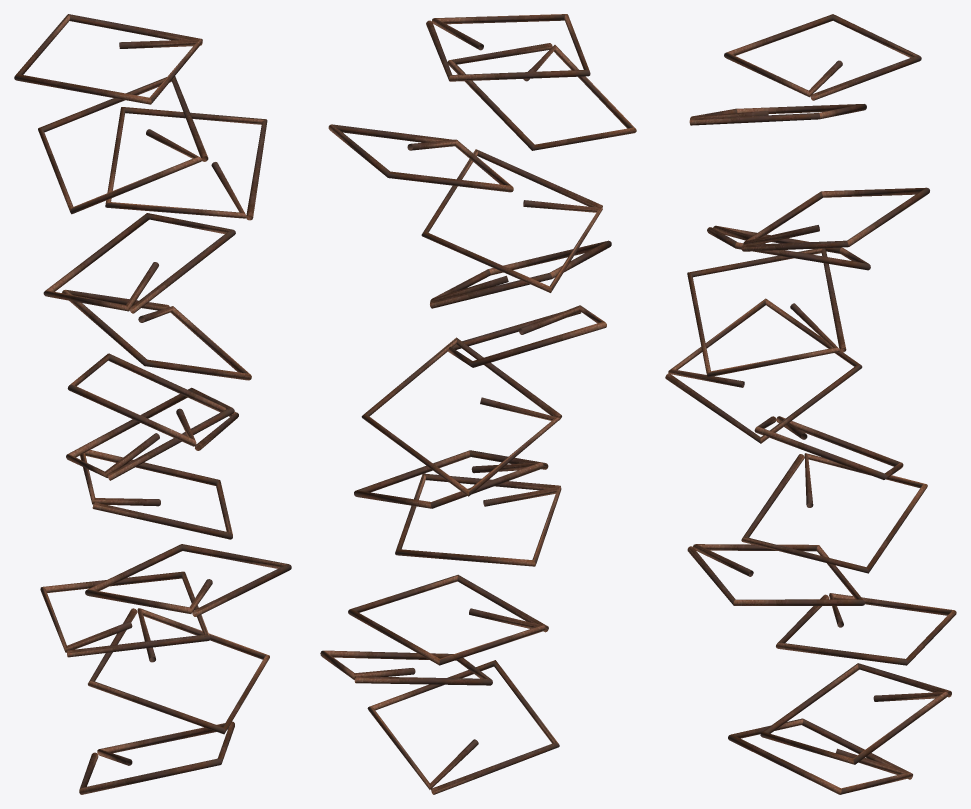
The model's file is EST-ARM-001_anim.glb.
3 views of the same model, side by side, from view 1: azimuth 30°, elevation 25°; view 2: azimuth 150°, elevation 25°; view 3: azimuth 270°, elevation 25° (orthographic). The views are drawn at different scales.
Parts seen in each view (by area): view 1: EST-ARM-001_anim11, EST-ARM-001_anim9, EST-ARM-001_anim8, EST-ARM-001_anim3, EST-ARM-001_anim10, EST-ARM-001_anim2, EST-ARM-001_anim1, EST-ARM-001_anim4, EST-ARM-001_anim7, EST-ARM-001_anim6, EST-ARM-001_anim5, EST-ARM-001_anim0; view 2: EST-ARM-001_anim5, EST-ARM-001_anim2, EST-ARM-001_anim8, EST-ARM-001_anim0, EST-ARM-001_anim11, EST-ARM-001_anim9, EST-ARM-001_anim3, EST-ARM-001_anim10, EST-ARM-001_anim4, EST-ARM-001_anim7, EST-ARM-001_anim1, EST-ARM-001_anim6; view 3: EST-ARM-001_anim9, EST-ARM-001_anim1, EST-ARM-001_anim6, EST-ARM-001_anim11, EST-ARM-001_anim7, EST-ARM-001_anim4, EST-ARM-001_anim3, EST-ARM-001_anim0, EST-ARM-001_anim2, EST-ARM-001_anim10, EST-ARM-001_anim5, EST-ARM-001_anim8.
Part boxes in pixels (bbox=[...]): EST-ARM-001_anim11: bbox=[14, 14, 202, 104]; EST-ARM-001_anim9: bbox=[105, 107, 267, 220]; EST-ARM-001_anim8: bbox=[43, 213, 235, 313]; EST-ARM-001_anim3: bbox=[85, 544, 291, 616]; EST-ARM-001_anim10: bbox=[38, 76, 208, 214]; EST-ARM-001_anim2: bbox=[40, 571, 210, 657]; EST-ARM-001_anim1: bbox=[88, 608, 269, 734]; EST-ARM-001_anim4: bbox=[80, 450, 232, 539]; EST-ARM-001_anim7: bbox=[62, 289, 251, 380]; EST-ARM-001_anim6: bbox=[67, 353, 238, 450]; EST-ARM-001_anim5: bbox=[66, 387, 234, 480]; EST-ARM-001_anim0: bbox=[79, 721, 234, 794]; EST-ARM-001_anim5: bbox=[361, 337, 561, 496]; EST-ARM-001_anim2: bbox=[348, 574, 548, 665]; EST-ARM-001_anim8: bbox=[421, 149, 602, 292]; EST-ARM-001_anim0: bbox=[367, 660, 559, 794]; EST-ARM-001_anim11: bbox=[426, 14, 590, 81]; EST-ARM-001_anim9: bbox=[328, 124, 513, 192]; EST-ARM-001_anim3: bbox=[395, 473, 561, 566]; EST-ARM-001_anim10: bbox=[447, 43, 636, 150]; EST-ARM-001_anim4: bbox=[354, 450, 548, 508]; EST-ARM-001_anim7: bbox=[430, 240, 611, 308]; EST-ARM-001_anim1: bbox=[320, 650, 492, 685]; EST-ARM-001_anim6: bbox=[448, 305, 606, 367]; EST-ARM-001_anim9: bbox=[741, 187, 929, 251]; EST-ARM-001_anim1: bbox=[760, 663, 951, 764]; EST-ARM-001_anim6: bbox=[665, 298, 862, 443]; EST-ARM-001_anim11: bbox=[724, 14, 921, 100]; EST-ARM-001_anim7: bbox=[687, 248, 846, 377]; EST-ARM-001_anim4: bbox=[741, 453, 927, 573]; EST-ARM-001_anim3: bbox=[687, 544, 864, 605]; EST-ARM-001_anim0: bbox=[728, 718, 912, 794]; EST-ARM-001_anim2: bbox=[776, 593, 956, 665]; EST-ARM-001_anim10: bbox=[689, 104, 866, 125]; EST-ARM-001_anim5: bbox=[754, 416, 903, 479]; EST-ARM-001_anim8: bbox=[707, 225, 870, 270].
Bounding box in the file's own units: 0.2164 × 0.5792 × 0.2143.
Materials: 1 (1 with a texture image).
